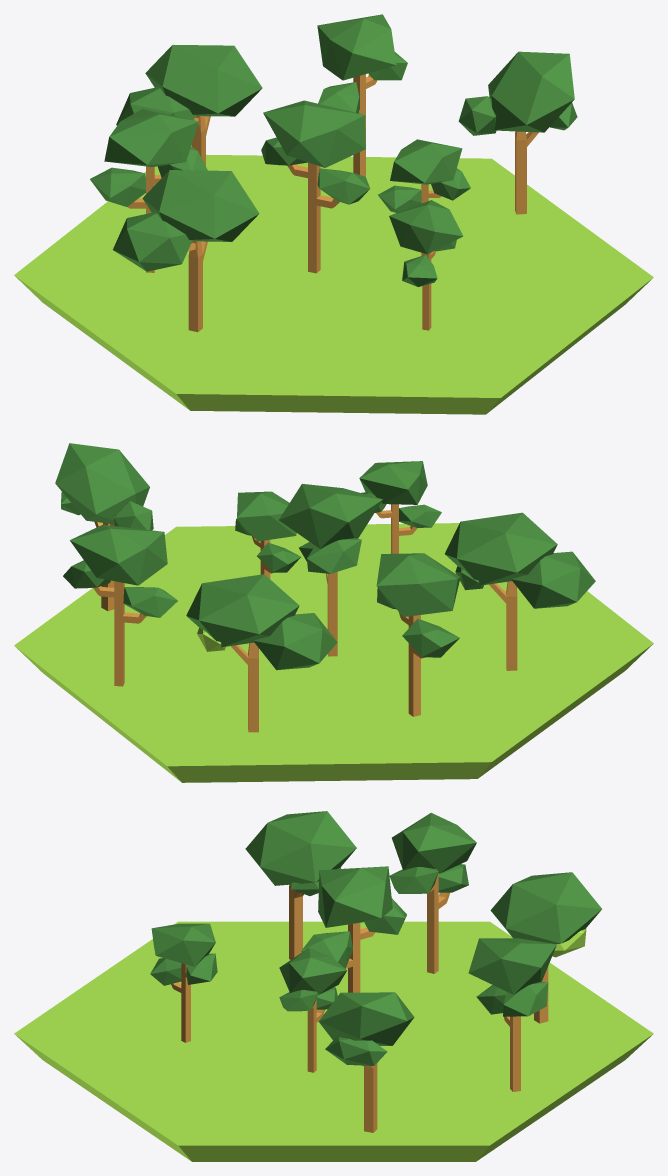
Rendered from G_F_leaf_2.fbx.
3 views of the same model, one above another, from view 1: azimuth 30°, elevation 25°; view 2: azimuth 150°, elevation 25°; view 3: azimuth 270°, elevation 25° (orthographic). The views are drawn at different scales.
Parts seen in each view (by area): view 1: G_F_leaf.001; view 2: G_F_leaf.001; view 3: G_F_leaf.001.
Part boxes in pixels (bbox=[...]): G_F_leaf.001: bbox=[14, 14, 653, 414]; G_F_leaf.001: bbox=[14, 443, 653, 782]; G_F_leaf.001: bbox=[14, 811, 653, 1161].
Bounding box in the file's own units: 3265 × 1217 × 3822.
